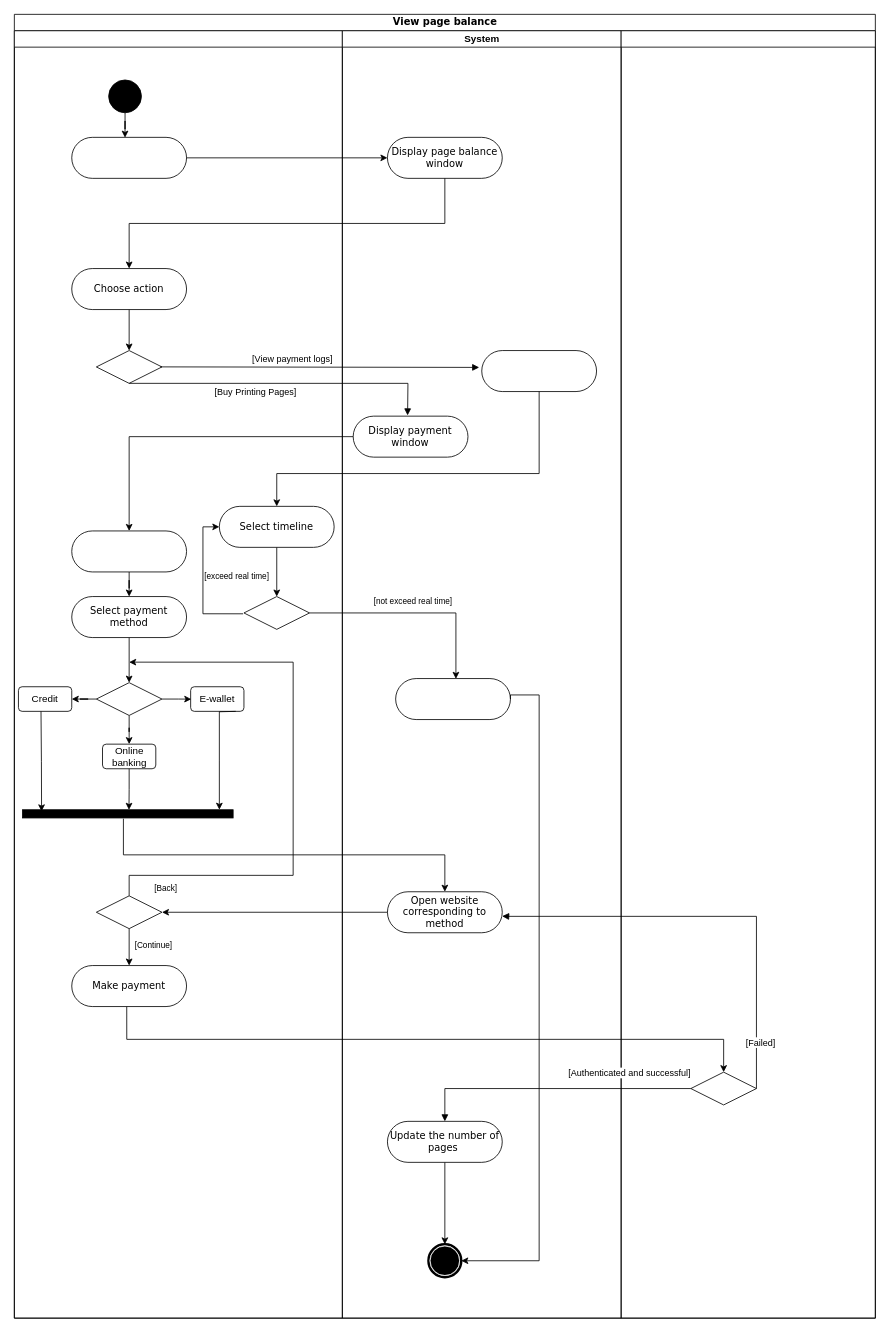
This 890x1333 diagram has some shape labels left out. The shapes that lost their labels are listed below. From the top down, each one's box as (x1, y1, x2, y2) in pixels, then its label:
(71, 137, 187, 178): Choose view page balance
(481, 350, 597, 392): Display payment logs window
(71, 530, 187, 572): Select number of page to buy
(14, 30, 342, 1318): Students
(620, 30, 875, 1318): Online Payment Providers
(395, 678, 510, 720): Show payment logs
